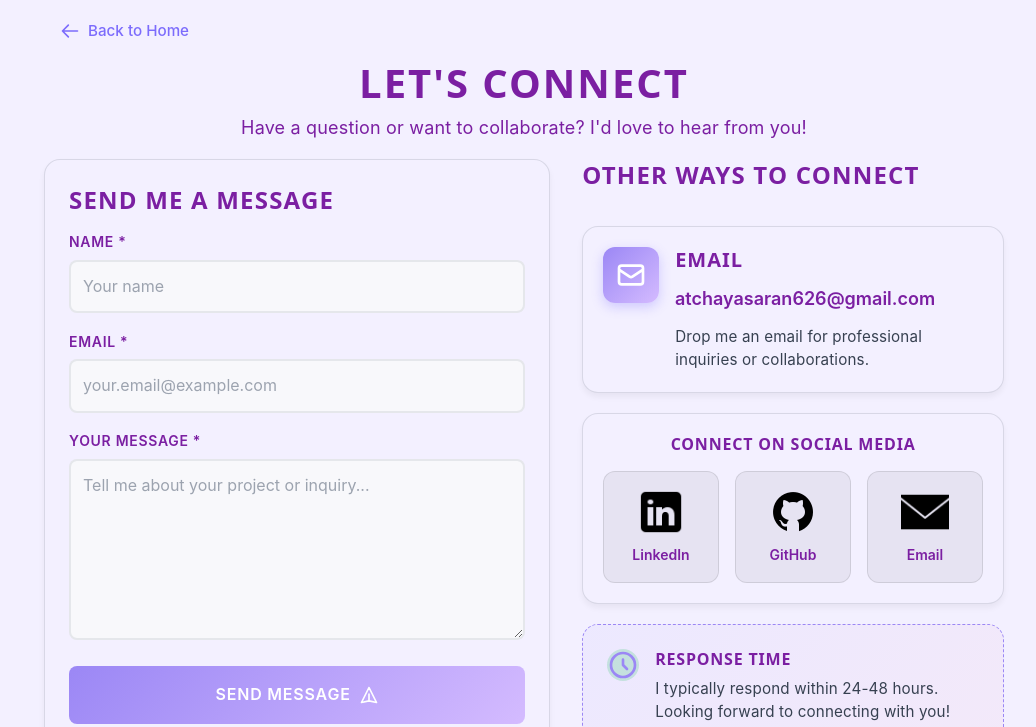
Test case: ConnectPage › Contact Form › should submit form with valid data
Fill in the form
Type "John Doe" into the field labelled "Name *" at (297, 287), box [69, 260, 525, 313]
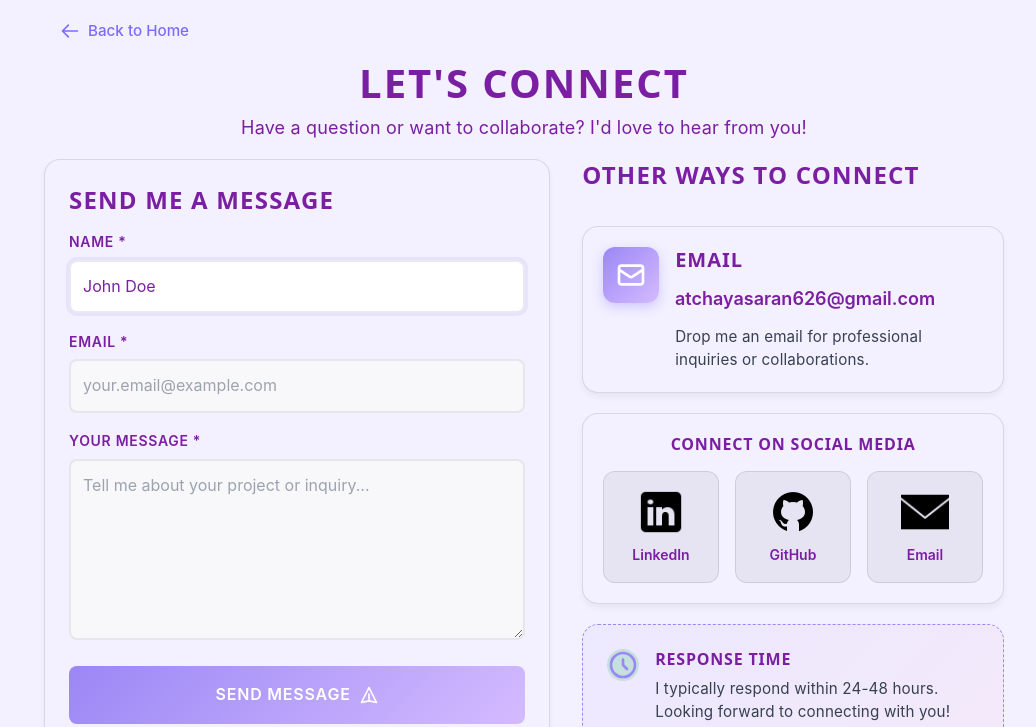
Type "john@example.com" into the field labelled "Email *" at (297, 386), box [69, 359, 525, 413]
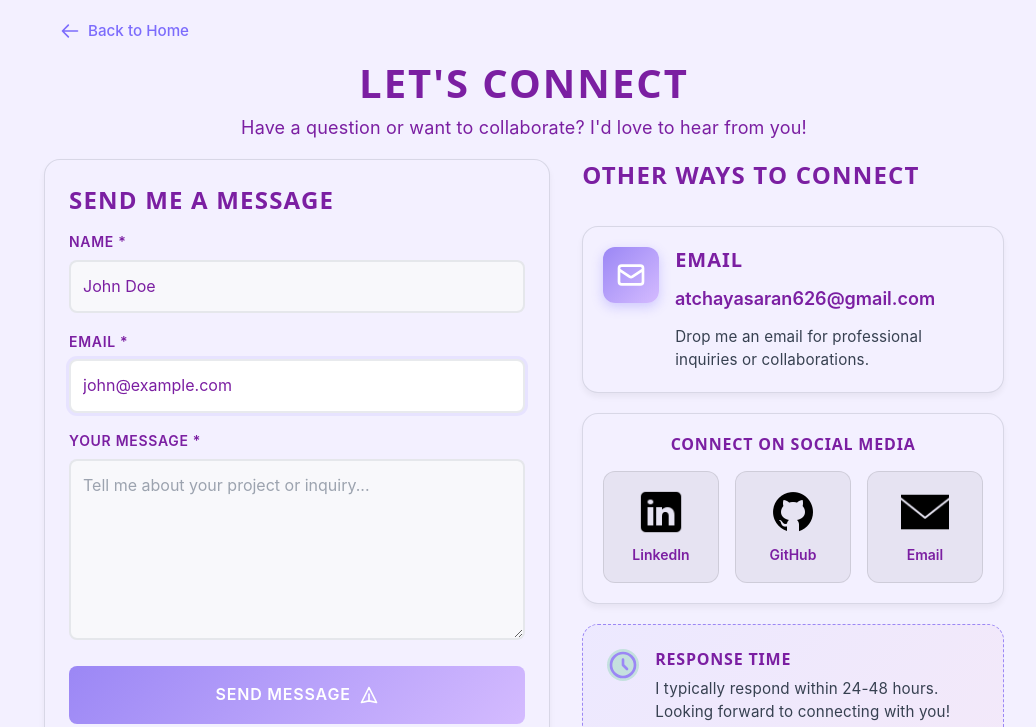
Type "This is a test message with enough characters." into the text box labelled "Your Message *" at (297, 550), box [69, 459, 525, 640]
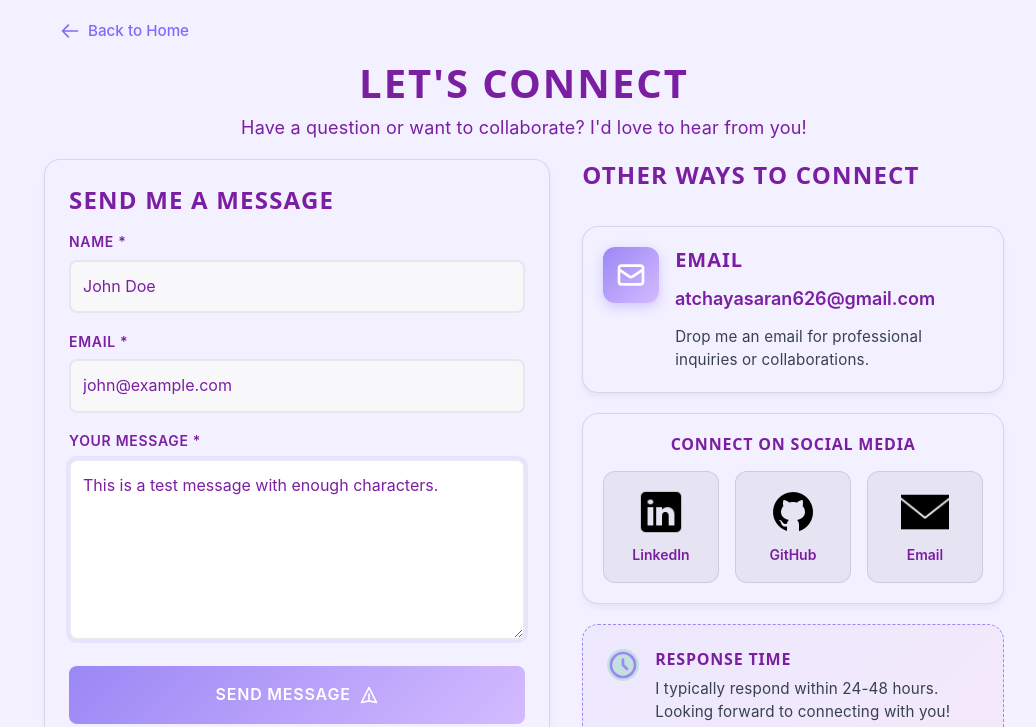
Submit the form
Click the button "Send Message" at (297, 695), box [69, 666, 525, 723]
(page scrolled)
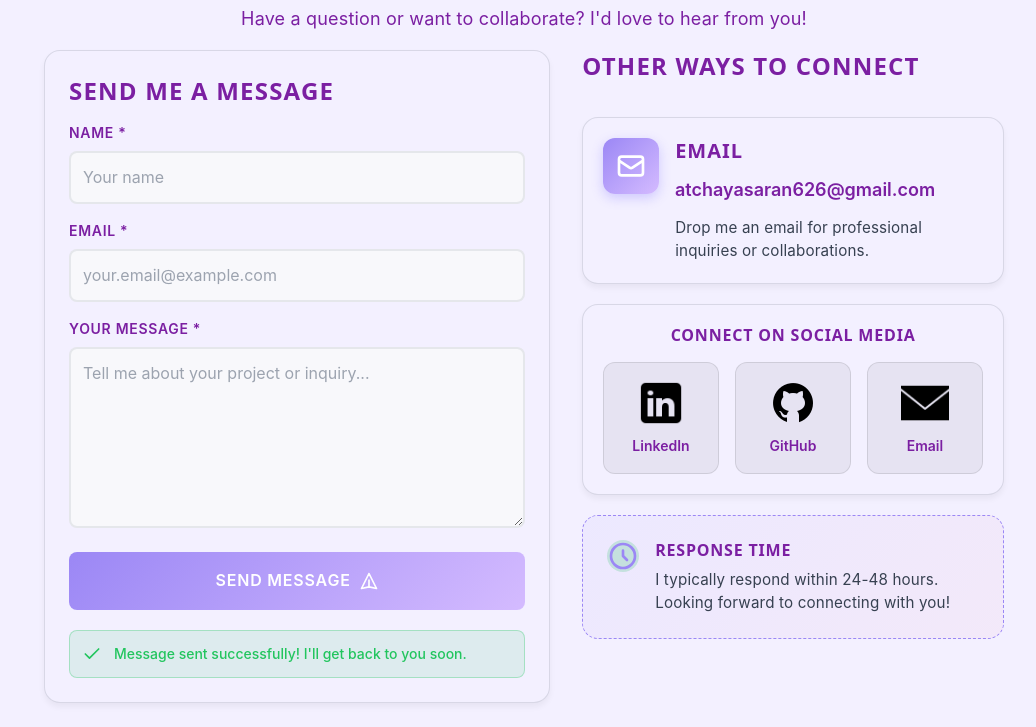
Expected: the button "sending" is shown, [69, 552, 525, 610]
Result: the text "Message sent successfully! I'll get back to you soon." is shown at [114, 643, 467, 665]
